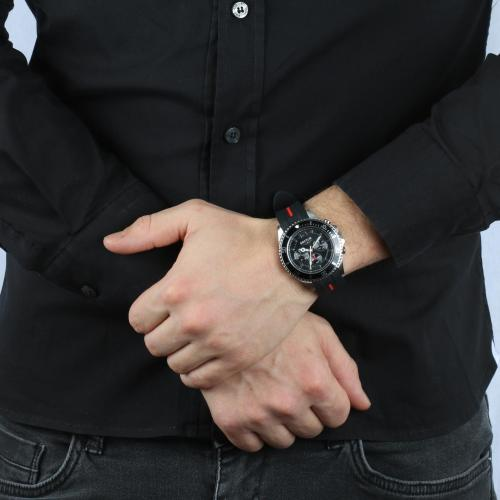clock: (286, 226, 334, 275)
